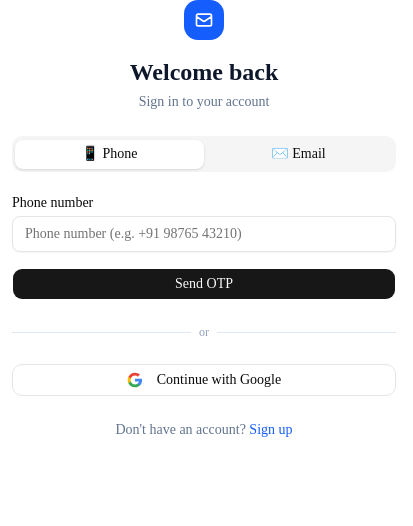
Scenario: LoginForm › switches to email tab on click
What coordinates should you click on to do the following:
click the tab "✉️ Email"
I would click on:
 (298, 154)
Its box is [204,140,393,168].
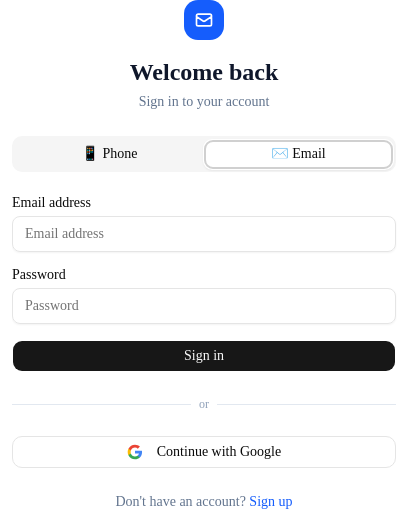
Check: the field with placeholder "Email address" is shown, box [12,216,396,252]
